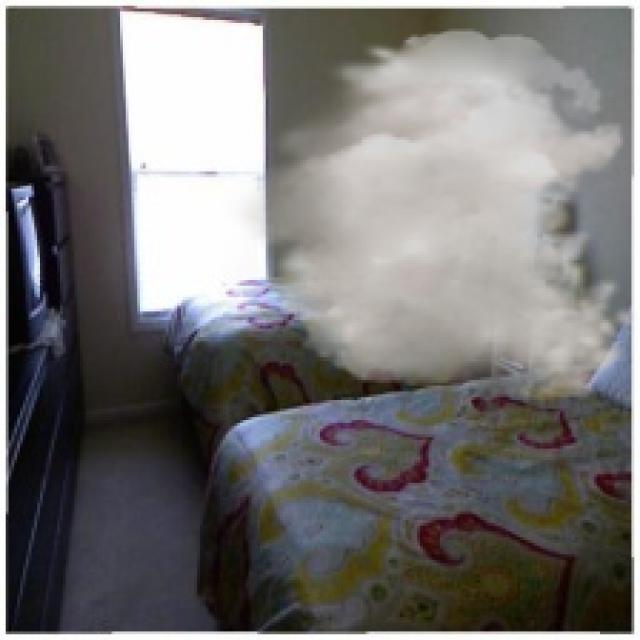Smoke: (220, 28, 637, 403)
